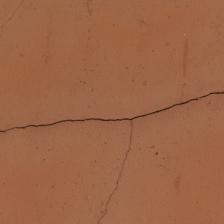Crack: (77, 15, 146, 125), (196, 0, 224, 90)
